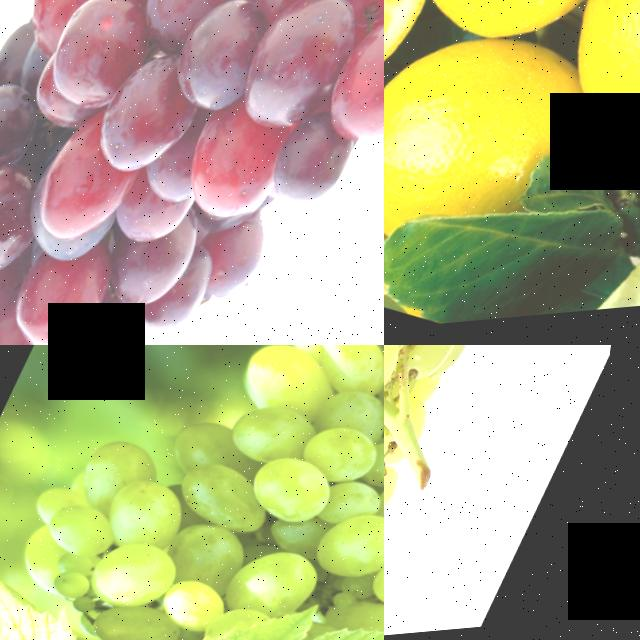grapes: (0, 0, 384, 345), (0, 345, 384, 640), (384, 345, 580, 628)
lemon: (384, 7, 593, 246), (384, 0, 640, 80), (547, 0, 640, 201)
